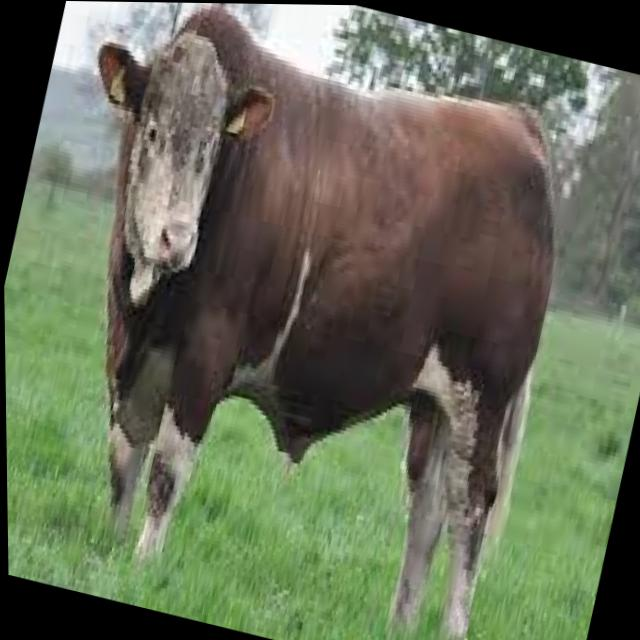cowFace: (25, 0, 304, 341)
